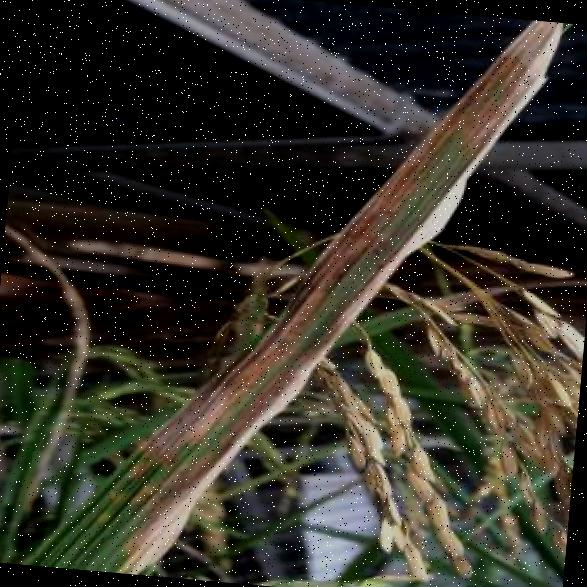Bacteria_Leaf_Blight: (90, 346, 244, 580)
